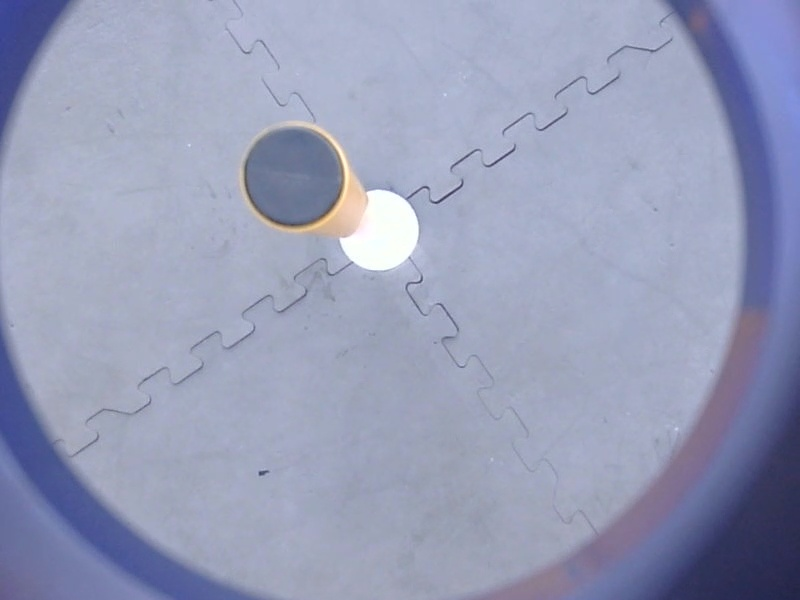tip: (232, 116, 362, 237)
